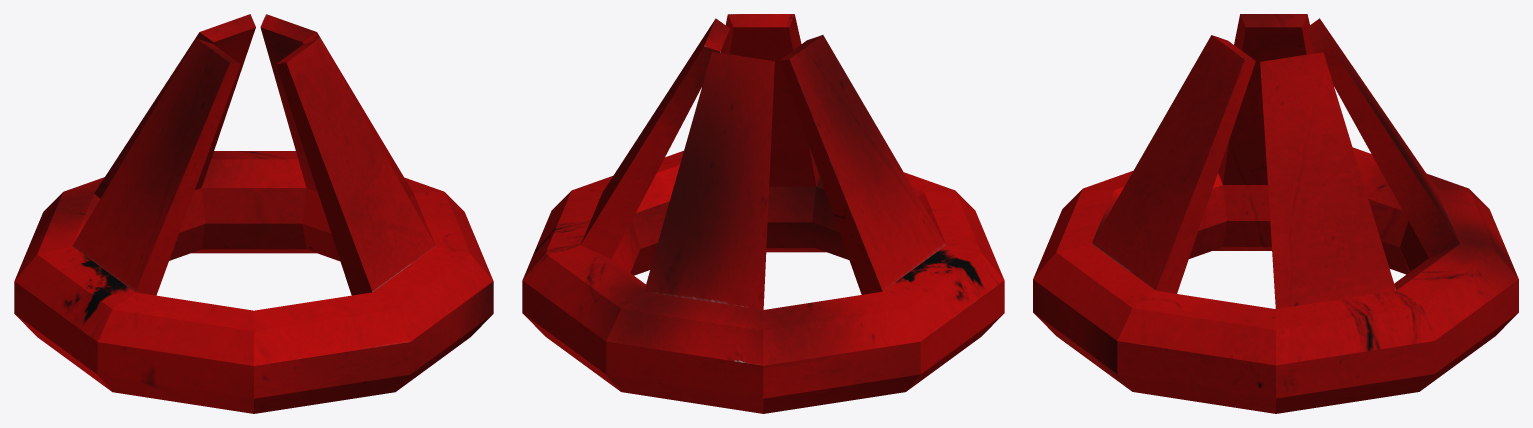
Rendered from bouyRED.fbx.
3 views of the same model, side by side, from view 1: azimuth 30°, elevation 25°; view 2: azimuth 150°, elevation 25°; view 3: azimuth 270°, elevation 25° (orthographic).
Visible parts, largest first — view 1: pTorus1; view 2: pTorus1; view 3: pTorus1.
Boxes of the visible parts, box(x1,y1,x2,y2) form: pTorus1: box(14, 14, 493, 413); pTorus1: box(522, 14, 1004, 413); pTorus1: box(1033, 14, 1518, 413).
Bounding box in the file's own units: 25.98 × 17.42 × 26.38.
1 material, 1 textured.
